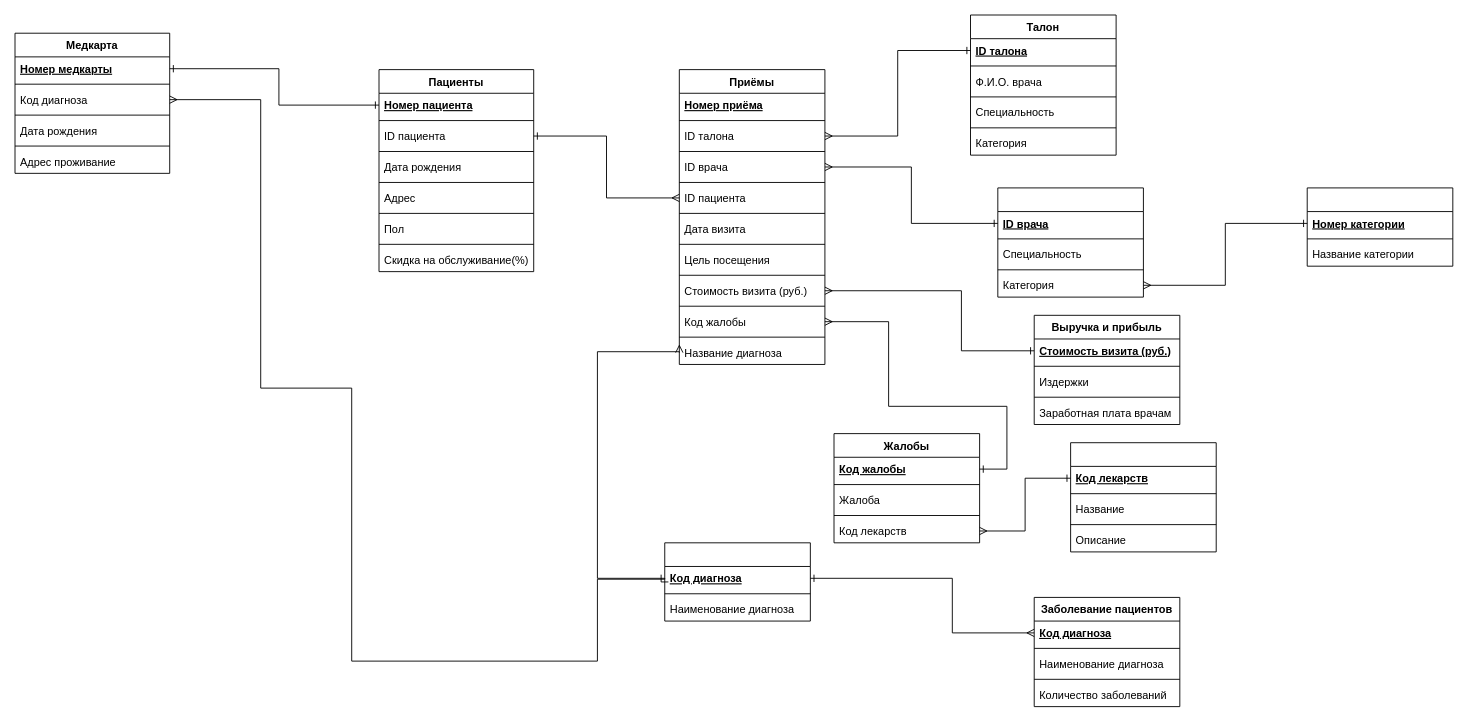
This 1468x722 diagram has some shape labels left out. Here are the shapes that lost their labels. From the top down, the box of each, then its label:
(997, 187, 1143, 297): Врачи
(1306, 187, 1453, 266): Категория врача
(1070, 442, 1216, 552): Список лекарств
(664, 542, 810, 621): Диагнозы
